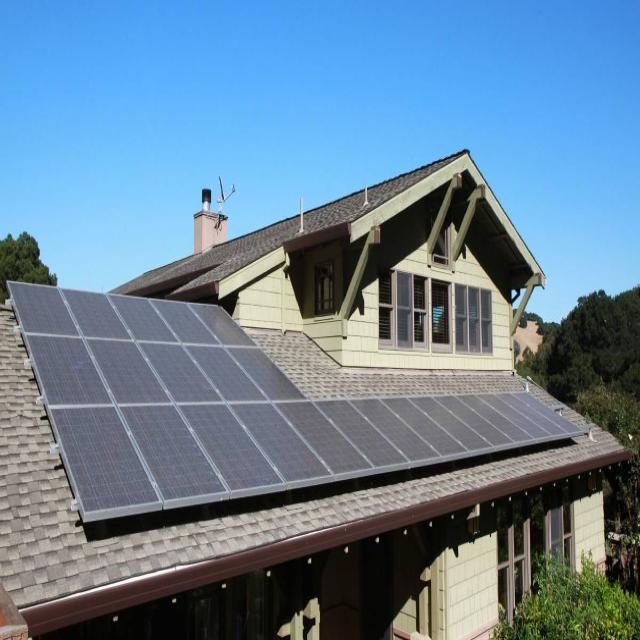dust-solar-panel: (8, 283, 589, 514)
